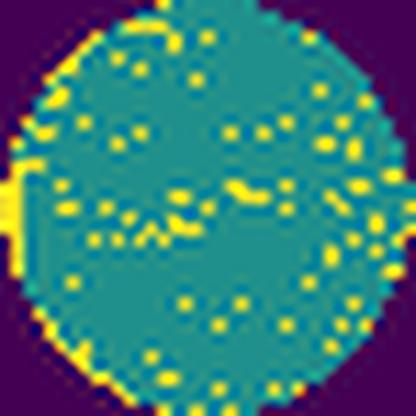Edge-Loc: (0, 154, 52, 282)
